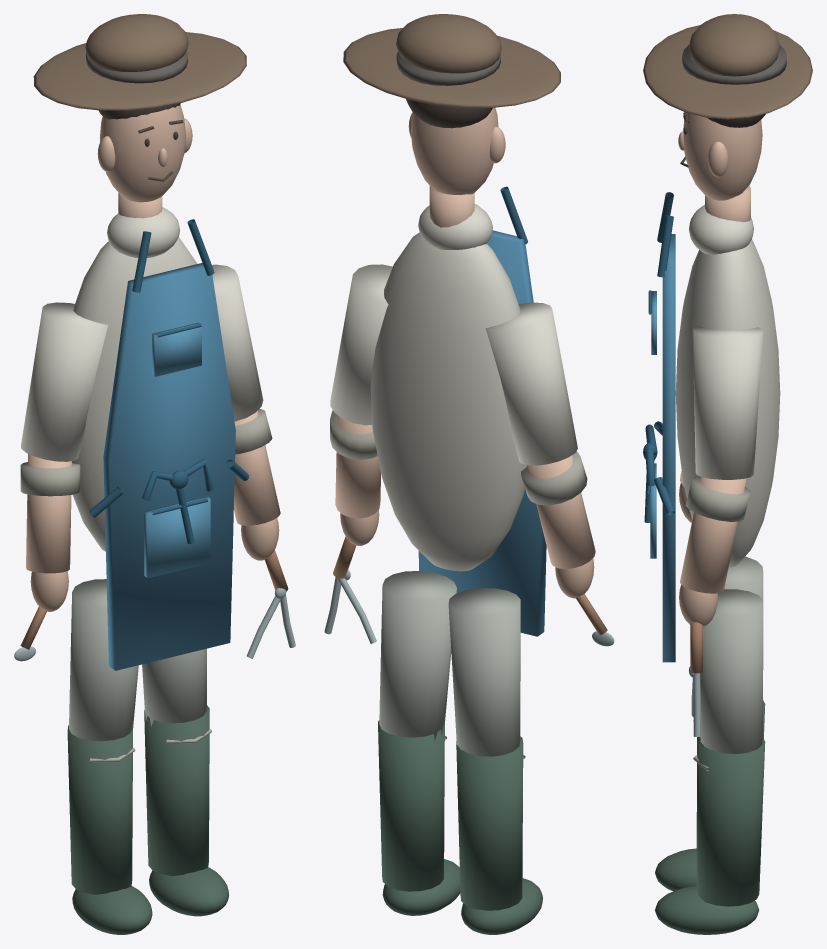
File: person_community_01_3d.glb
3 views of the same model, side by side, from view 1: azimuth 30°, elevation 25°; view 2: azimuth 150°, elevation 25°; view 3: azimuth 270°, elevation 25° (orthographic). The views are drawn at different scales.
Visible parts, largest first — view 1: Blue apron body, left boot shaft, right boot shaft, left upper sleeve, shirt torso, wide hat brim, left trouser leg, head, hat crown, right upper sleeve, right trouser leg, large apron pocket (+12 smaller); view 2: shirt torso, left trouser leg, right trouser leg, left boot shaft, right boot shaft, left upper sleeve, wide hat brim, Blue apron body, right upper sleeve, head, hat crown, left forearm (+11 smaller); view 3: shirt torso, right boot shaft, right upper sleeve, right trouser leg, wide hat brim, Blue apron body, head, hat crown, right forearm, right boot foot, shirt collar, right rolled cuff (+11 smaller).
Part boxes in pixels (<box>): Blue apron body: <box>103,263,235,670</box>; left boot shaft: <box>67,725,132,894</box>; right boot shaft: <box>144,705,209,875</box>; left upper sleeve: <box>21,302,108,461</box>; shirt torso: <box>72,237,197,551</box>; wide hat brim: <box>33,32,246,110</box>; left trouser leg: <box>69,579,138,741</box>; head: <box>99,104,185,202</box>; hat crown: <box>85,14,188,71</box>; right upper sleeve: <box>212,264,263,421</box>; right trouser leg: <box>142,648,206,725</box>; large apron pocket: <box>144,496,210,578</box>; shirt torso: <box>370,232,526,571</box>; left trouser leg: <box>448,588,520,756</box>; right trouser leg: <box>379,571,456,741</box>; left boot shaft: <box>456,736,523,910</box>; right boot shaft: <box>378,720,444,891</box>; left upper sleeve: <box>485,302,577,465</box>; wide hat brim: <box>343,28,560,107</box>; Blue apron body: <box>418,230,546,636</box>; right upper sleeve: <box>330,264,392,425</box>; head: <box>411,107,498,194</box>; hat crown: <box>396,14,501,73</box>; left forearm: <box>527,455,595,569</box>; shirt torso: <box>675,239,780,567</box>; right boot shaft: <box>696,737,765,906</box>; right upper sleeve: <box>692,326,763,479</box>; right trouser leg: <box>700,589,763,774</box>; wide hat brim: <box>643,25,812,119</box>; Blue apron body: <box>662,234,675,662</box>; head: <box>683,113,762,200</box>; hat crown: <box>689,14,780,76</box>; right forearm: <box>680,477,746,593</box>; right boot foot: <box>655,886,759,934</box>; shirt collar: <box>689,205,753,254</box>; right rolled cuff: <box>685,475,750,521</box>.
Bounding box in the file's own units: 0.05 × 0.15 × 0.026.
